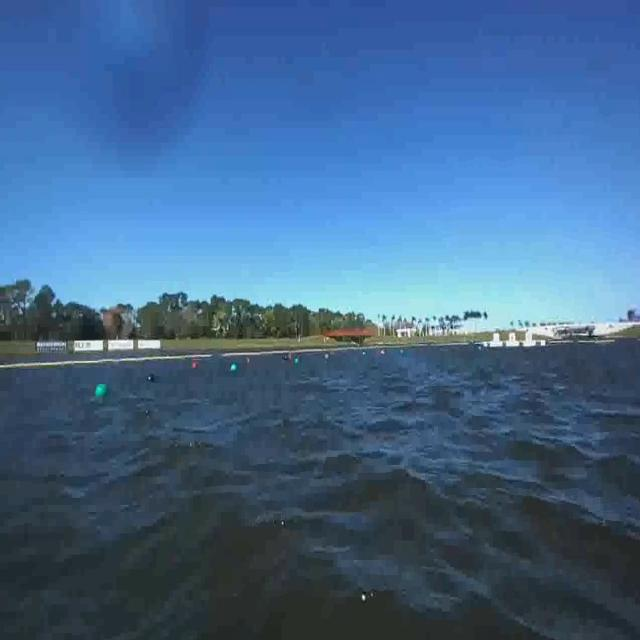green-buoy: (94, 381, 107, 395), (294, 359, 298, 365)
